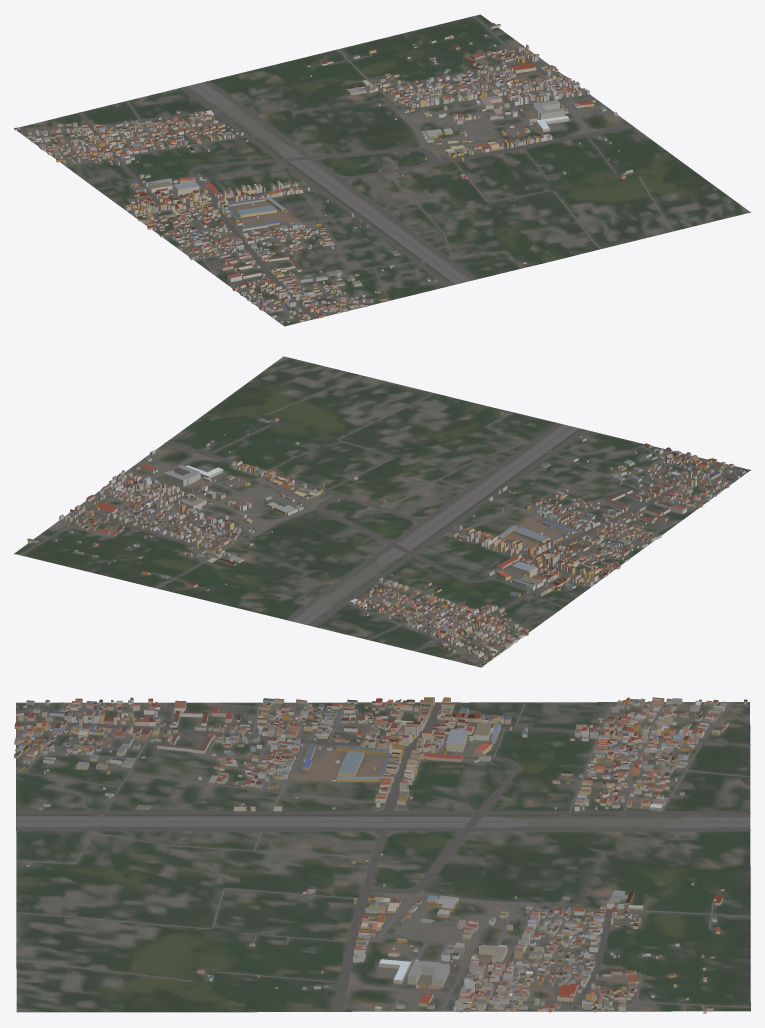
3 renders of one model, top to bottom at view 1: azimuth 30°, elevation 25°; view 2: azimuth 150°, elevation 25°; view 3: azimuth 270°, elevation 25°, orthographic. The views are drawn at different scales.
Visible parts, largest first — view 1: ground, buildings, roads; view 2: ground, buildings, roads; view 3: ground, buildings, roads.
Boxes of the visible parts, <box> form: ground: <box>14,14,750,326</box>; buildings: <box>14,23,632,323</box>; roads: <box>20,16,672,319</box>; ground: <box>14,356,750,667</box>; buildings: <box>27,412,745,667</box>; roads: <box>20,375,741,666</box>; ground: <box>16,702,750,1012</box>; buildings: <box>14,697,747,1013</box>; roads: <box>16,701,750,1011</box>.
Size of the model in its own units: 1415 by 29.37 by 1407.
